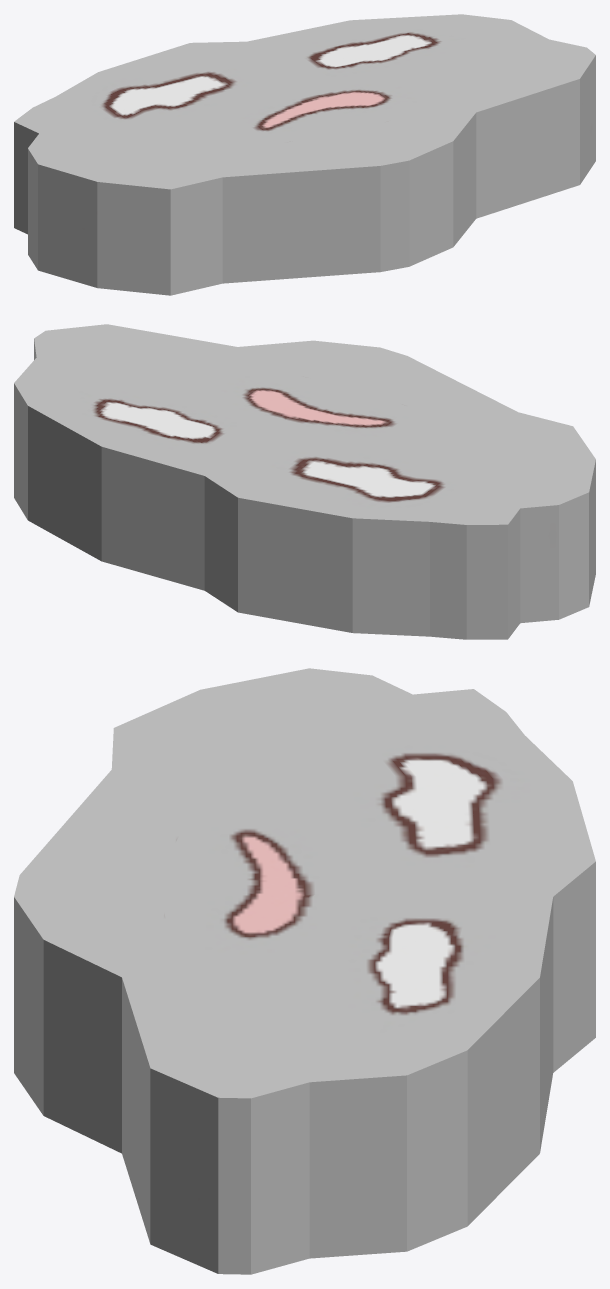
3 renders of one model, top to bottom at view 1: azimuth 30°, elevation 25°; view 2: azimuth 150°, elevation 25°; view 3: azimuth 270°, elevation 25°, orthographic. The views are drawn at different scales.
Parts seen in each view (by area): view 1: 疑; view 2: 疑; view 3: 疑.
Part boxes in pixels (<box>): 疑: <box>14,14,595,295</box>; 疑: <box>14,324,595,639</box>; 疑: <box>14,668,595,1274</box>.
Size of the model in its own units: 186 by 35.59 by 107.
Materials: 2 (2 with a texture image).
